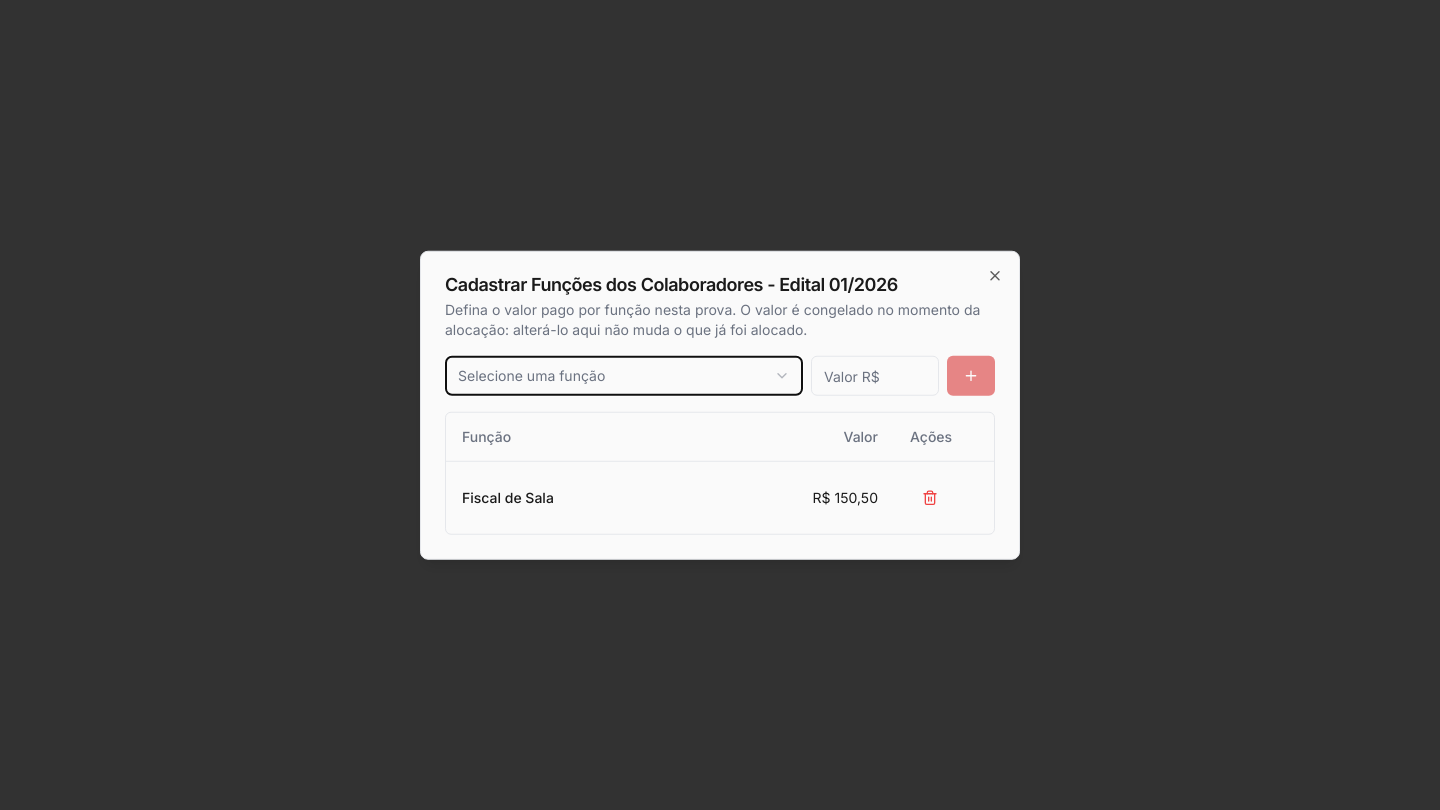
Test case: ValoresFuncaoProvaDialog (interação) › quais funções o diálogo oferece › oferece só função que AINDA NÃO tem valor nesta prova
The width and height of the screenshot is (1440, 810).
Click the dropdown at (532, 375), box [445,356,803,396]
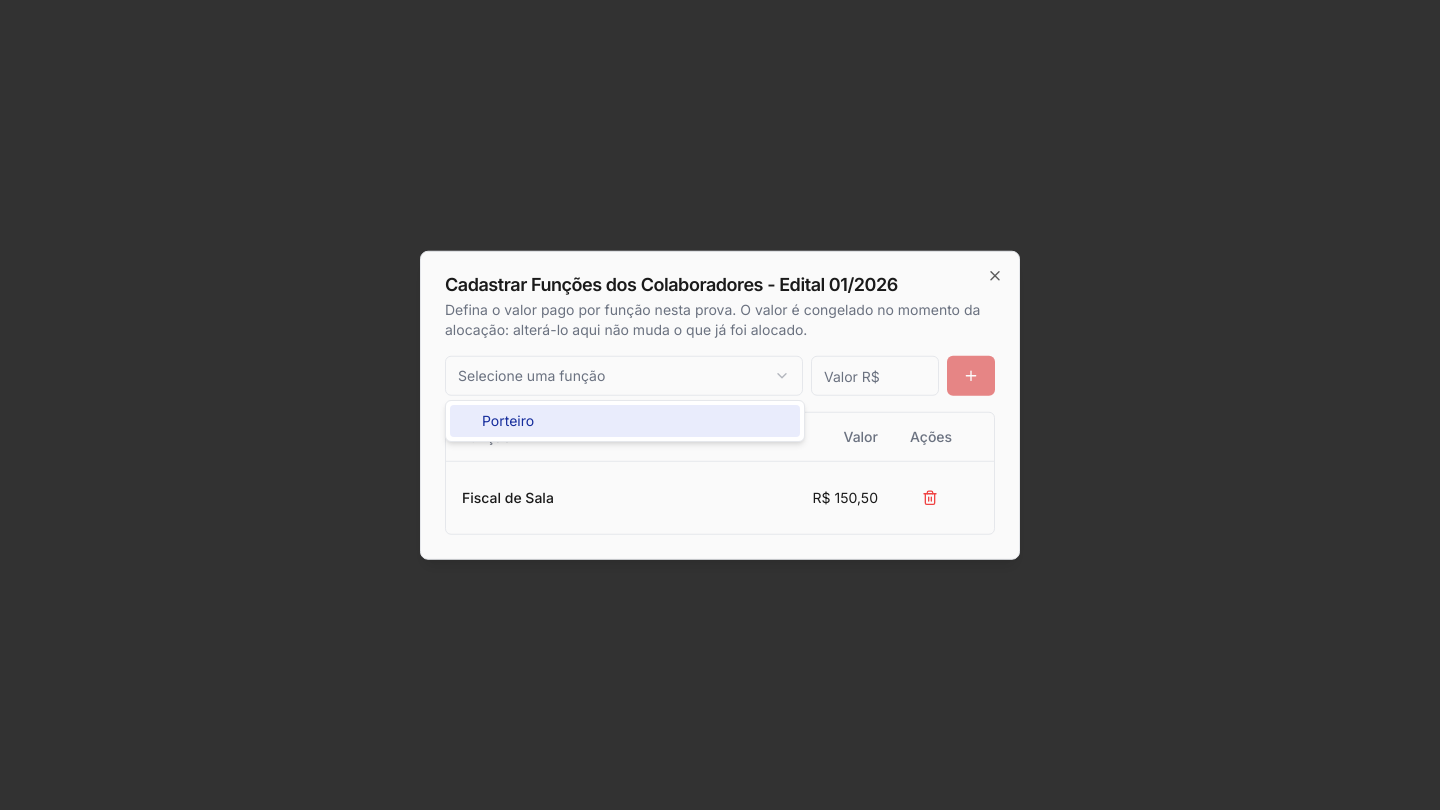
Check: the option "Porteiro" is shown, box [450,405,800,437]
